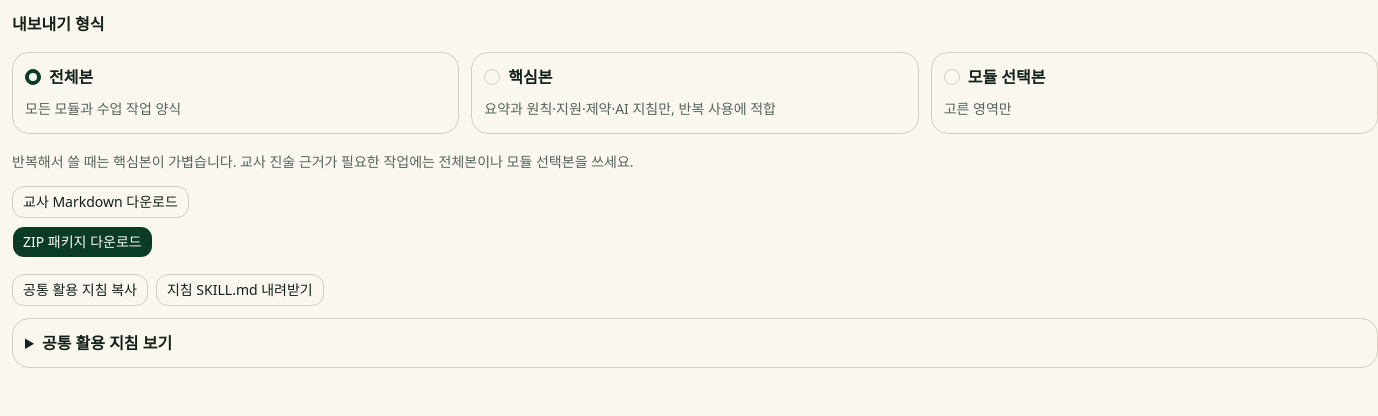
Test: records a successful 핵심본 Markdown download with its target and format
The width and height of the screenshot is (1378, 416).
Click the 2nd radio button named "핵심본" at (492, 77), box [484,69,500,85]
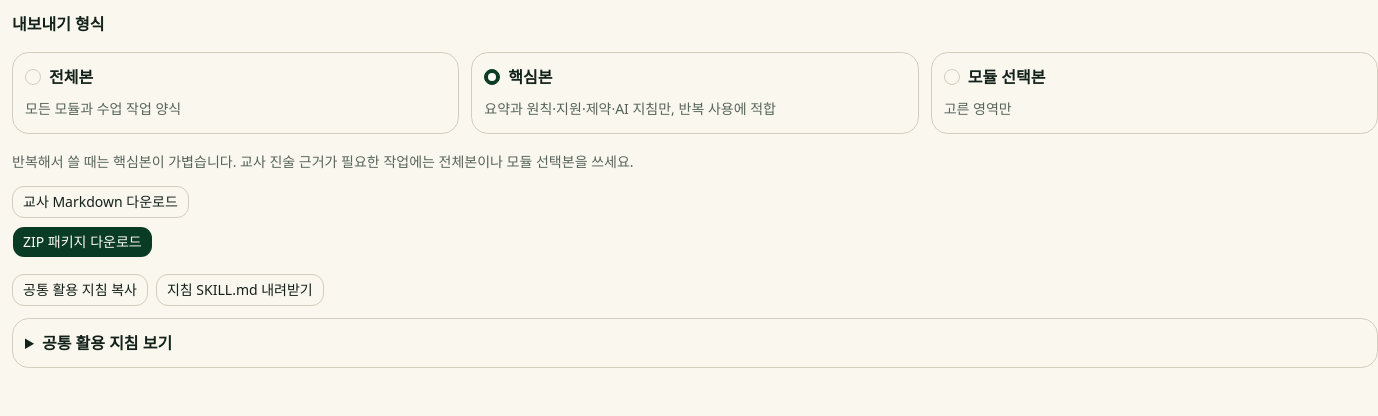
Click the button "교사 Markdown 다운로드" at (100, 202), box [12,186,189,218]
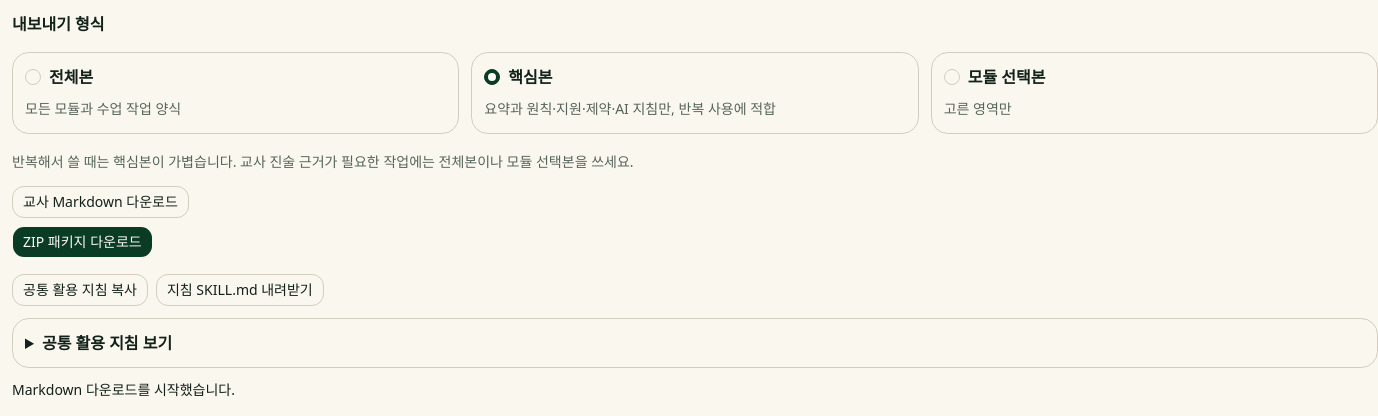
Result: the message reads "Markdown 다운로드를 시작했습니다." at [12,380,235,399]
